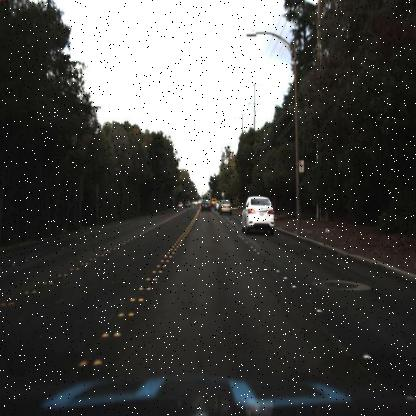car: (243, 192, 280, 235), (222, 196, 236, 218), (200, 197, 214, 213)
